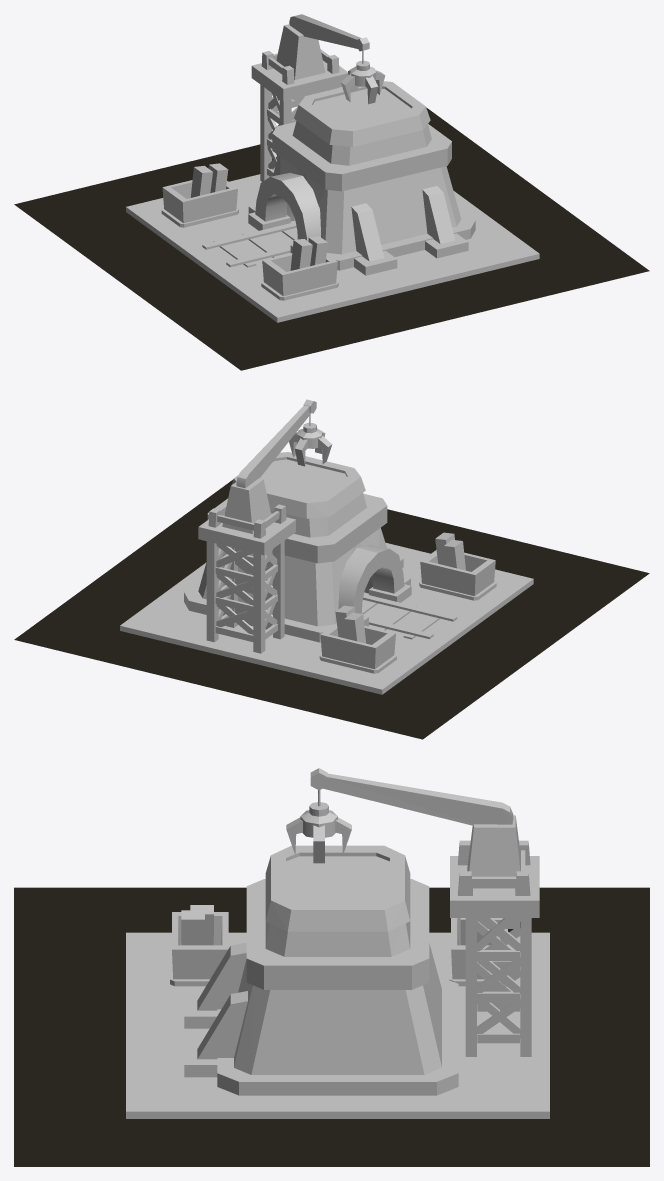
Rendered from yelianchang_03.FBX.
3 views of the same model, one above another, from view 1: azimuth 30°, elevation 25°; view 2: azimuth 150°, elevation 25°; view 3: azimuth 270°, elevation 25° (orthographic). The views are drawn at different scales.
Parts seen in each view (by area): view 1: yelianchang_03, Plane003; view 2: yelianchang_03, Plane003; view 3: yelianchang_03, Plane003.
Part boxes in pixels (bbox=[...]): yelianchang_03: bbox=[126, 14, 539, 322]; Plane003: bbox=[14, 107, 649, 370]; yelianchang_03: bbox=[120, 399, 533, 694]; Plane003: bbox=[14, 479, 649, 739]; yelianchang_03: bbox=[126, 768, 549, 1118]; Plane003: bbox=[14, 887, 649, 1166].
Size of the model in its own units: 1430 by 660 by 1377.
